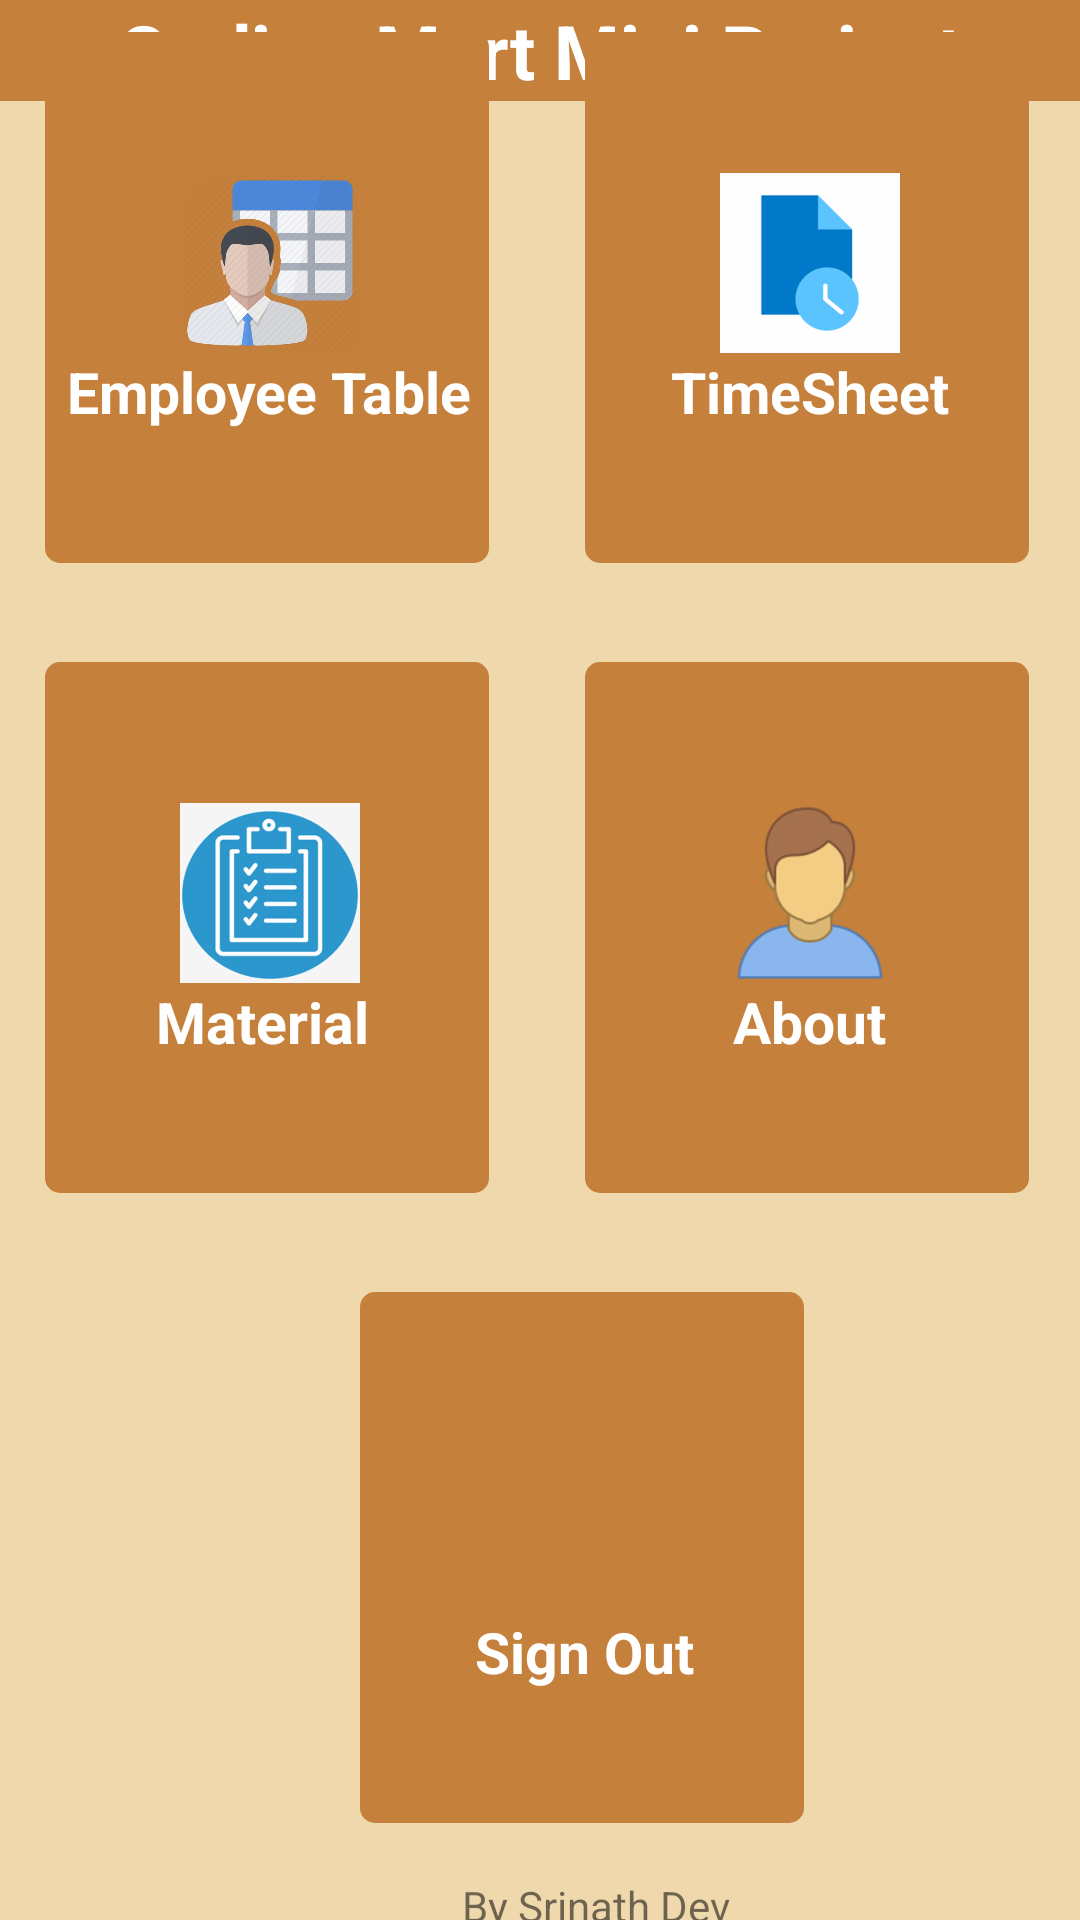

Named icons in this screenshot (1080w x 1920h) and their bounding boxes, (x1, y1, x2, y2):
person: (738, 807, 882, 979)
